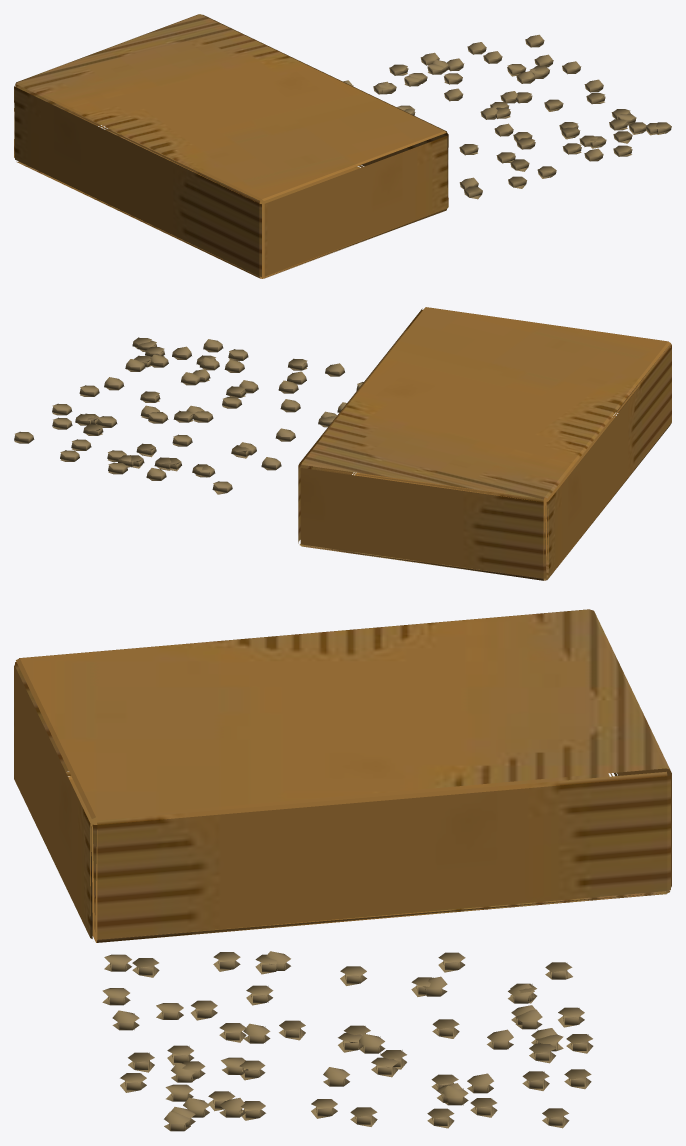
The model's file is FD15_SpilledCerealBox.glb.
3 renders of one model, top to bottom at view 1: azimuth 30°, elevation 25°; view 2: azimuth 150°, elevation 25°; view 3: azimuth 270°, elevation 25°, orthographic. The views are drawn at different scales.
Visible parts, largest first — view 1: FD15_SpilledCerealBox; view 2: FD15_SpilledCerealBox; view 3: FD15_SpilledCerealBox.
Part boxes in pixels (bbox=[...]): FD15_SpilledCerealBox: bbox=[14, 14, 671, 278]; FD15_SpilledCerealBox: bbox=[14, 307, 671, 580]; FD15_SpilledCerealBox: bbox=[14, 609, 671, 1131].
Size of the model in its own units: 0.3003 by 0.0436 by 0.2073.
2 materials, 2 textured.
